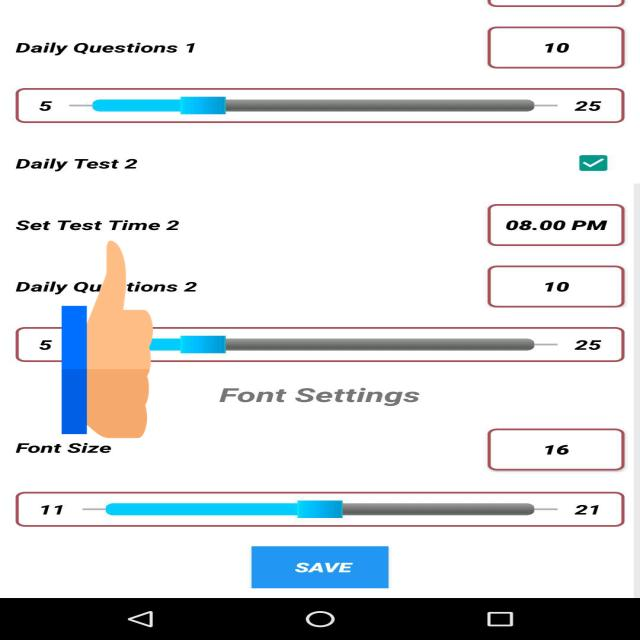privacy zuckering: (62, 236, 153, 443)
